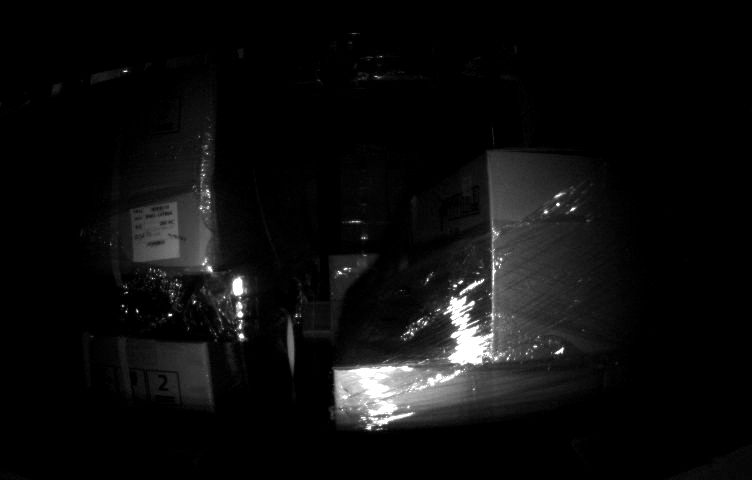True Barcode: (129, 206, 179, 262)
